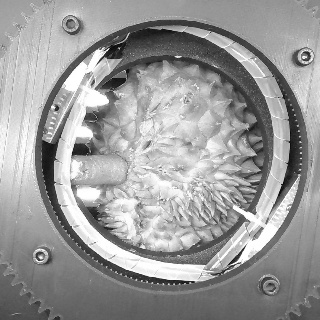base: (102, 150, 133, 189)
end: (69, 158, 83, 181)
